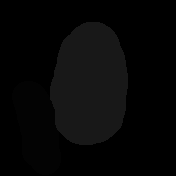fp: (47, 18, 131, 153)
